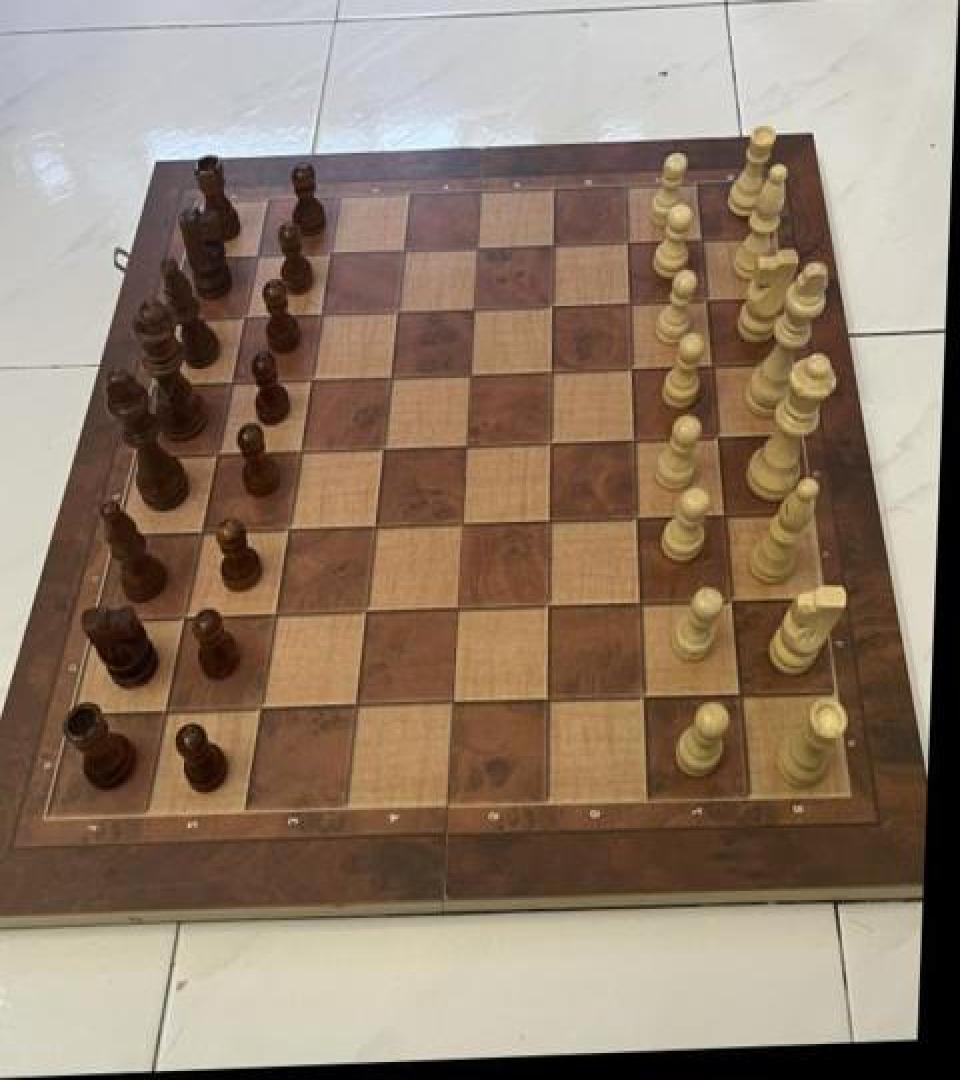xcorner: (246, 686, 280, 725), (533, 499, 567, 538), (458, 290, 492, 329), (244, 237, 278, 276), (152, 688, 186, 726), (341, 684, 375, 722), (436, 681, 470, 719), (532, 678, 566, 716), (627, 676, 661, 714), (723, 673, 757, 711), (171, 595, 205, 633), (261, 593, 295, 631), (351, 590, 385, 628), (442, 588, 476, 626), (532, 585, 566, 623), (623, 583, 657, 621), (714, 580, 748, 618), (188, 510, 222, 548), (360, 505, 394, 543), (446, 503, 480, 541), (619, 498, 653, 536), (706, 495, 740, 533), (204, 433, 238, 471), (286, 430, 320, 468), (368, 428, 402, 466), (451, 426, 485, 464), (533, 423, 567, 461), (616, 421, 650, 459), (699, 418, 733, 456), (219, 362, 253, 400), (297, 360, 331, 398), (376, 357, 410, 395), (455, 354, 489, 392), (534, 352, 568, 390), (613, 350, 647, 388), (692, 348, 726, 386), (232, 297, 266, 335), (307, 295, 341, 333), (383, 292, 417, 330), (534, 288, 568, 326), (610, 285, 644, 323), (686, 282, 720, 320), (317, 235, 351, 273), (389, 233, 423, 271), (462, 231, 496, 269), (534, 228, 568, 266), (607, 225, 641, 263), (680, 223, 714, 261), (274, 508, 308, 545)
